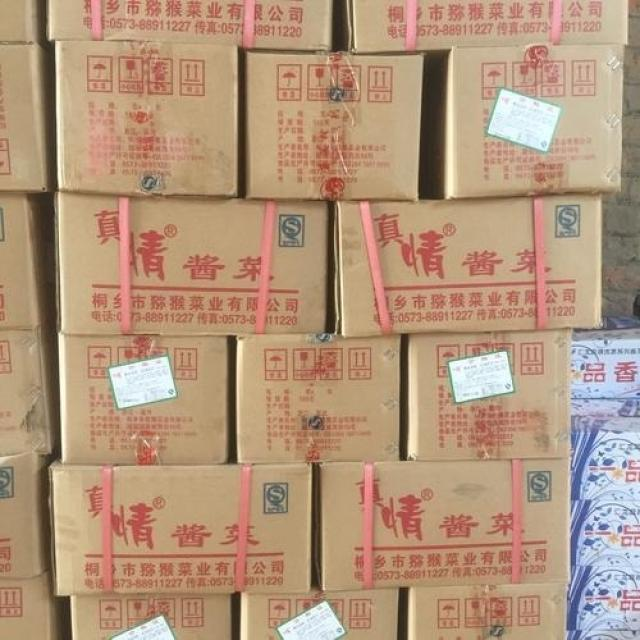box: (52, 191, 328, 335), (332, 193, 603, 337), (49, 456, 314, 598), (314, 458, 572, 590), (421, 44, 625, 201), (56, 40, 239, 196), (244, 51, 424, 200), (60, 335, 236, 463), (407, 328, 572, 461), (237, 334, 401, 463), (346, 1, 628, 52), (410, 584, 568, 640), (0, 321, 60, 456), (239, 589, 398, 639), (70, 593, 232, 639), (0, 195, 55, 329), (0, 453, 49, 579), (571, 417, 639, 498), (0, 567, 69, 640), (567, 566, 640, 630), (571, 330, 639, 397), (572, 500, 640, 567), (0, 0, 52, 47), (571, 398, 639, 416), (566, 627, 640, 639), (603, 316, 640, 328)
